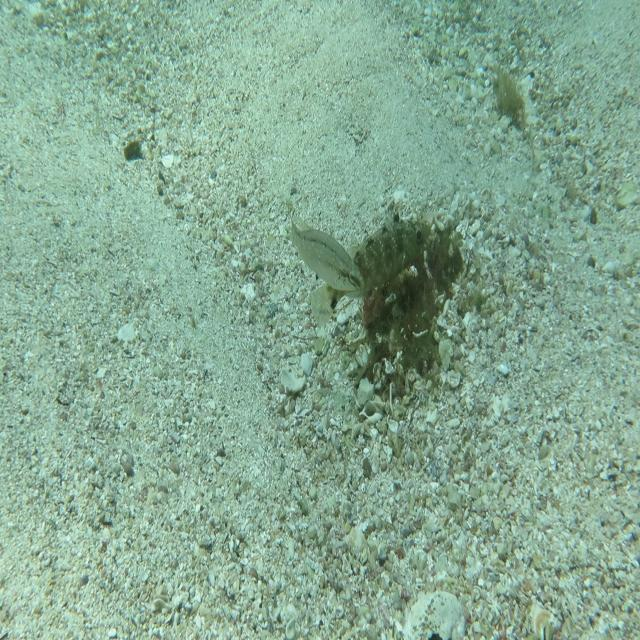FAN: (306, 205, 432, 331)
female: (288, 205, 366, 294)
nest: (346, 203, 474, 419)
vegetation: (486, 60, 530, 128), (122, 135, 144, 165)
